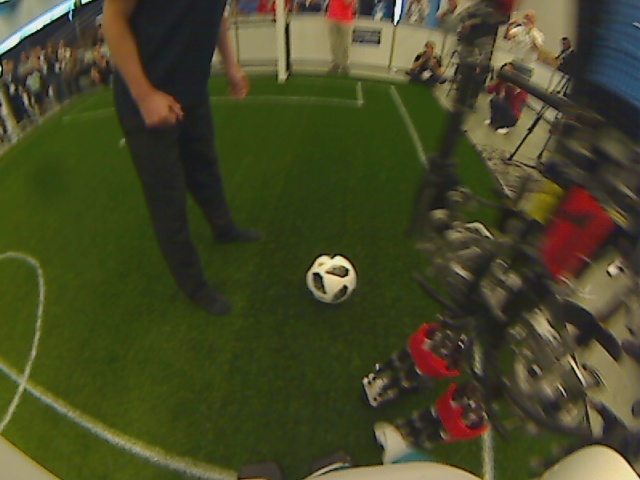ball: (306, 253, 357, 305)
